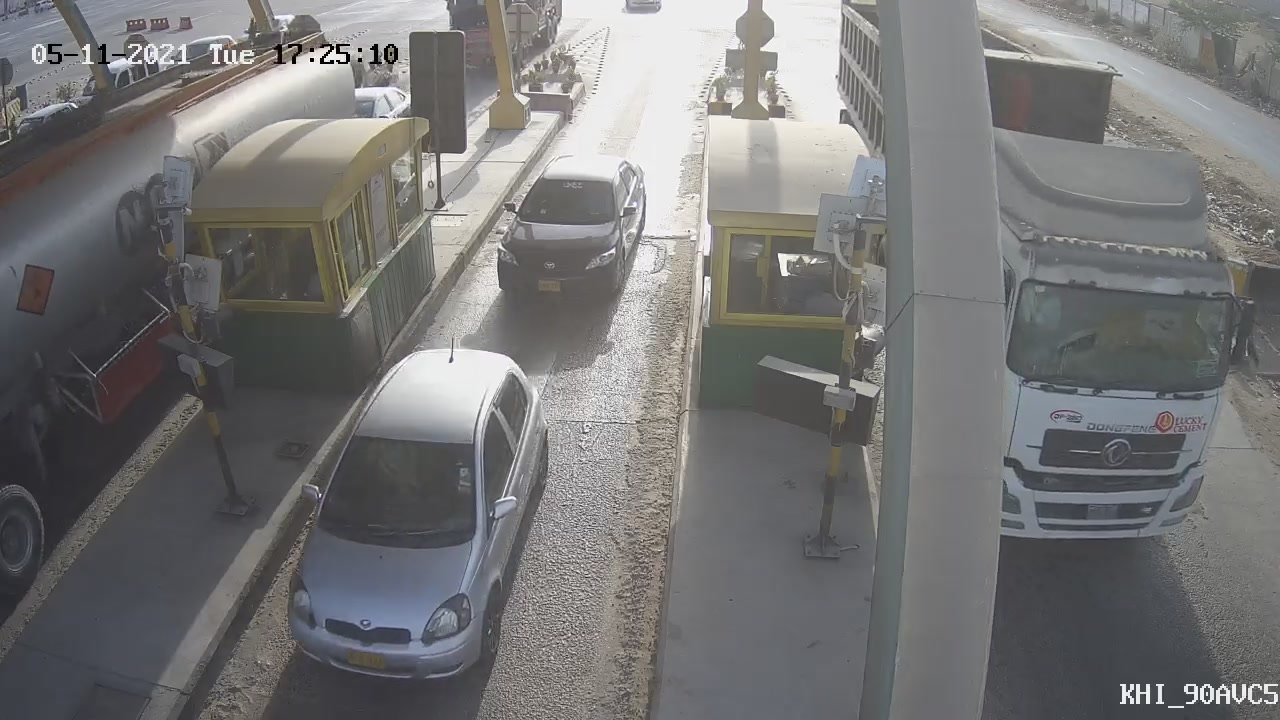F1: (481, 139, 665, 324)
